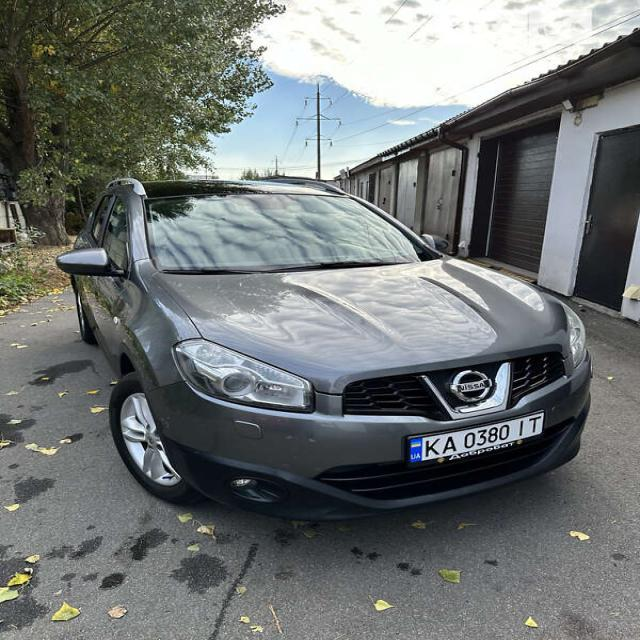plate: (405, 408, 555, 461)
